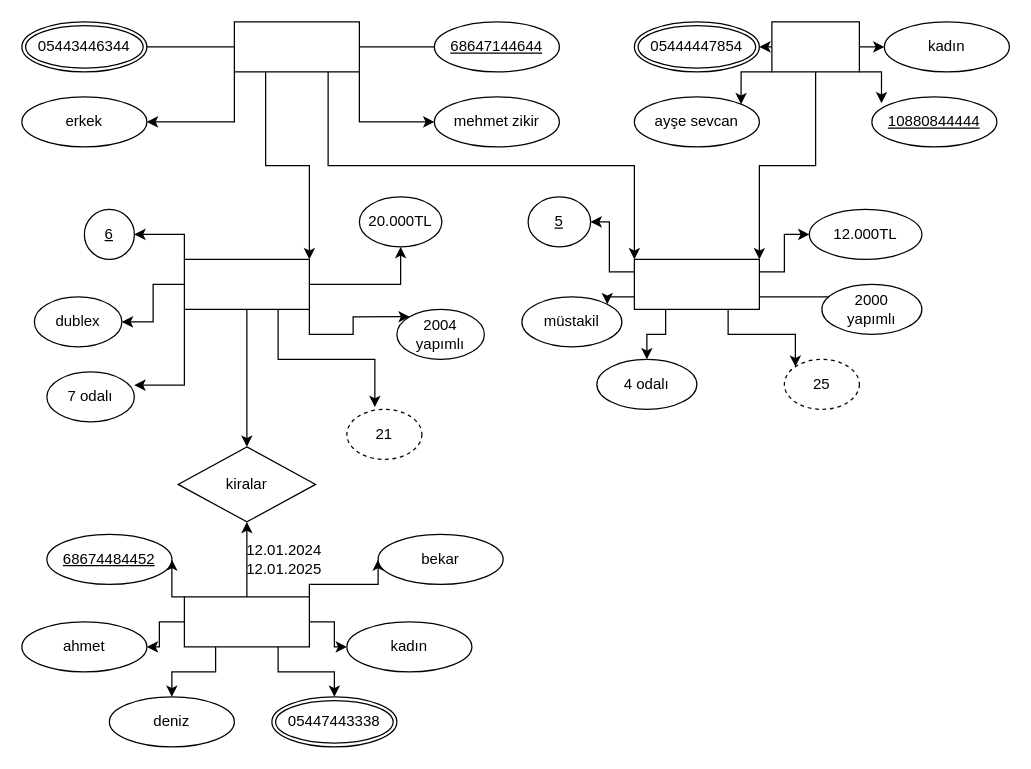
Image size: 1031x769. Some labels were removed from this diagram. The shapes that lost their labels are listed below. From the top down, each one's box as (x1, y1, x2, y2) in pixels, then its label:
(233, 21, 359, 72): ev sahibi 1
(771, 21, 859, 72): ev sahibi 2
(183, 258, 309, 309): ev 1
(633, 258, 759, 309): ev 2
(183, 596, 309, 647): kiracı
